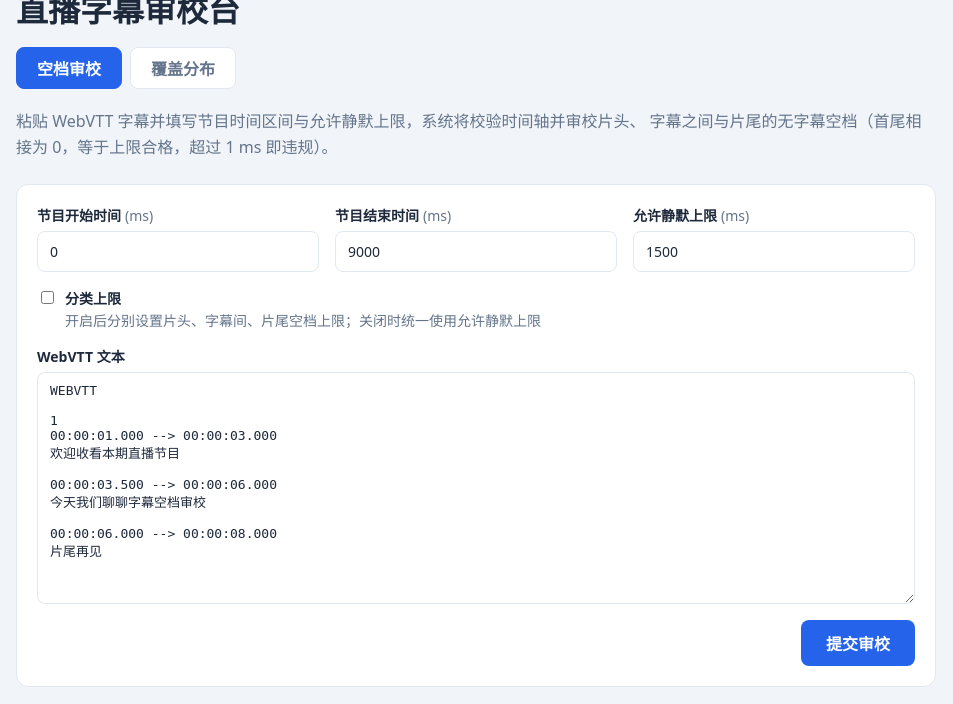
Test: App page states › posts gap_limits with head/between/tail when enabled and filled
Step 1. Click the checkbox with test id "gap-limits-toggle" → (48, 298), box [41,291,54,304]
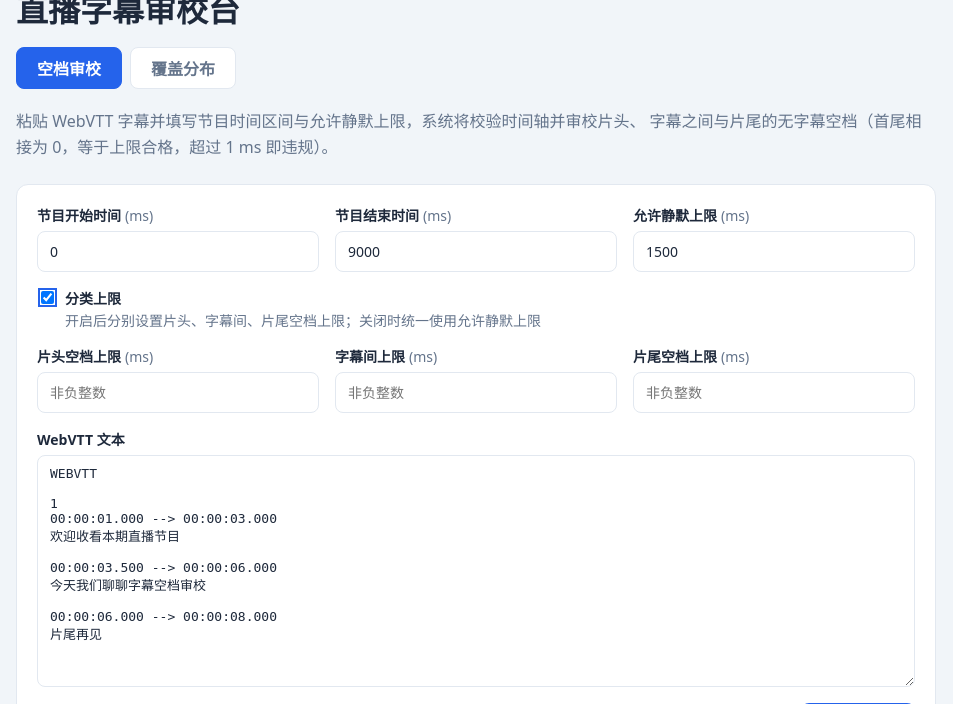
Step 2. Type "800" into the number field with test id "input-gap-head" → (178, 393), box [37,372,319,413]
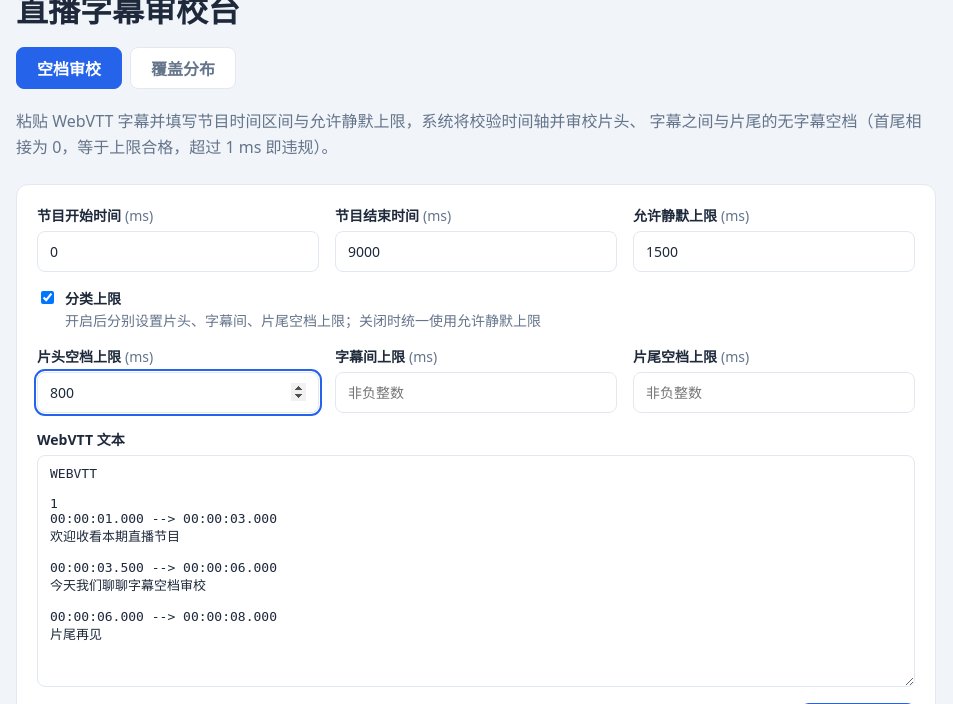
Step 3. Type "1200" into the number field with test id "input-gap-between" → (476, 393), box [335,372,617,413]
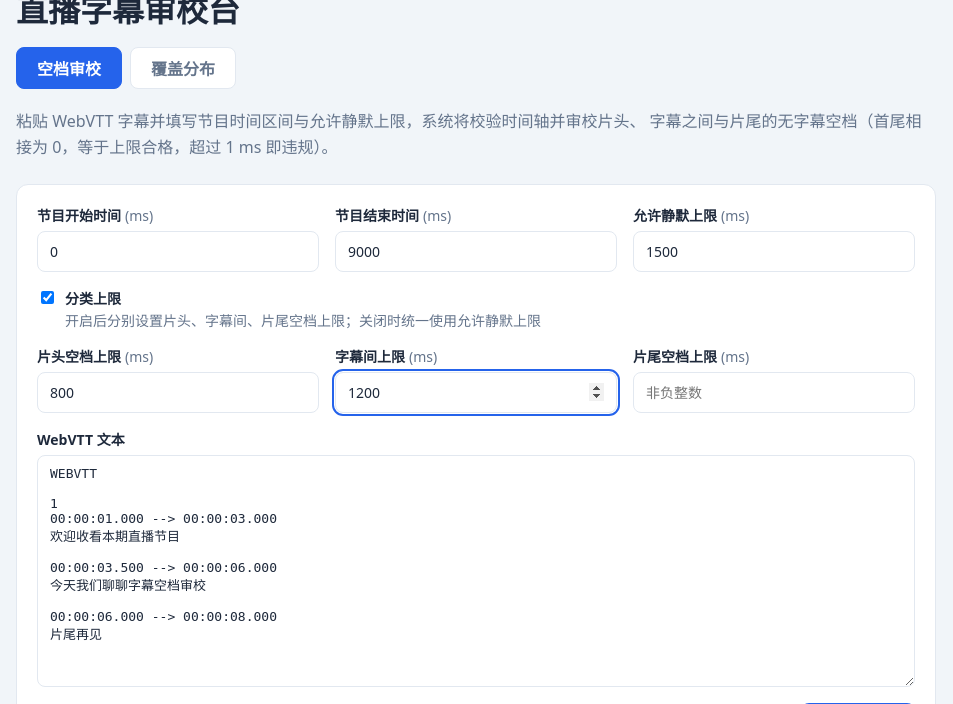
Step 4. Type "2000" into the number field with test id "input-gap-tail" → (774, 393), box [633,372,915,413]
(page scrolled)
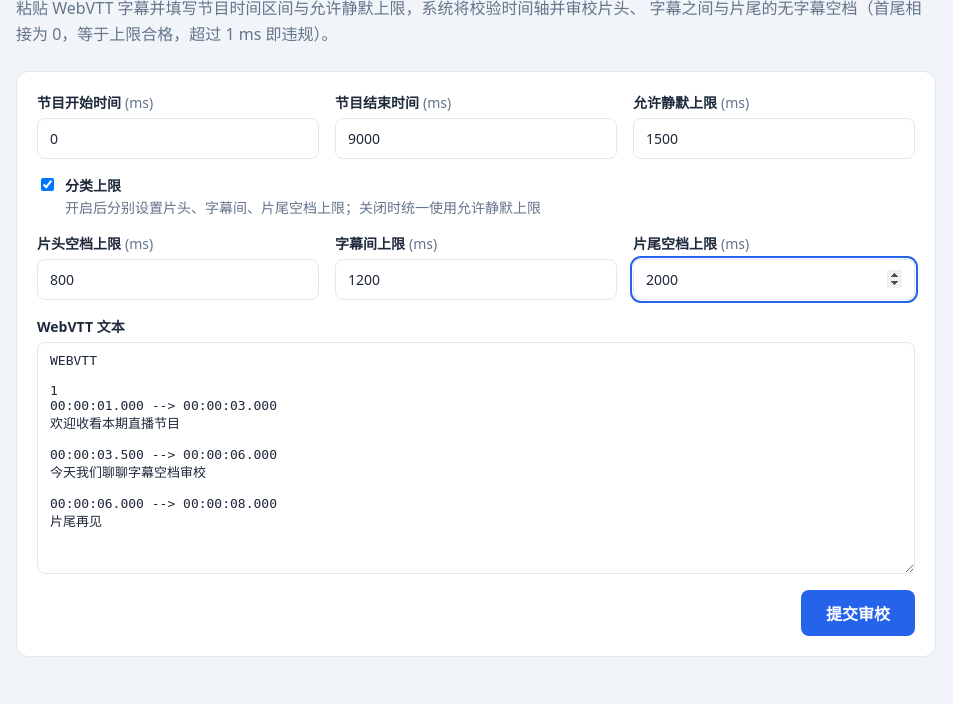
Step 5. Click the button with test id "submit" → (858, 613), box [801,590,915,636]
(page scrolled)
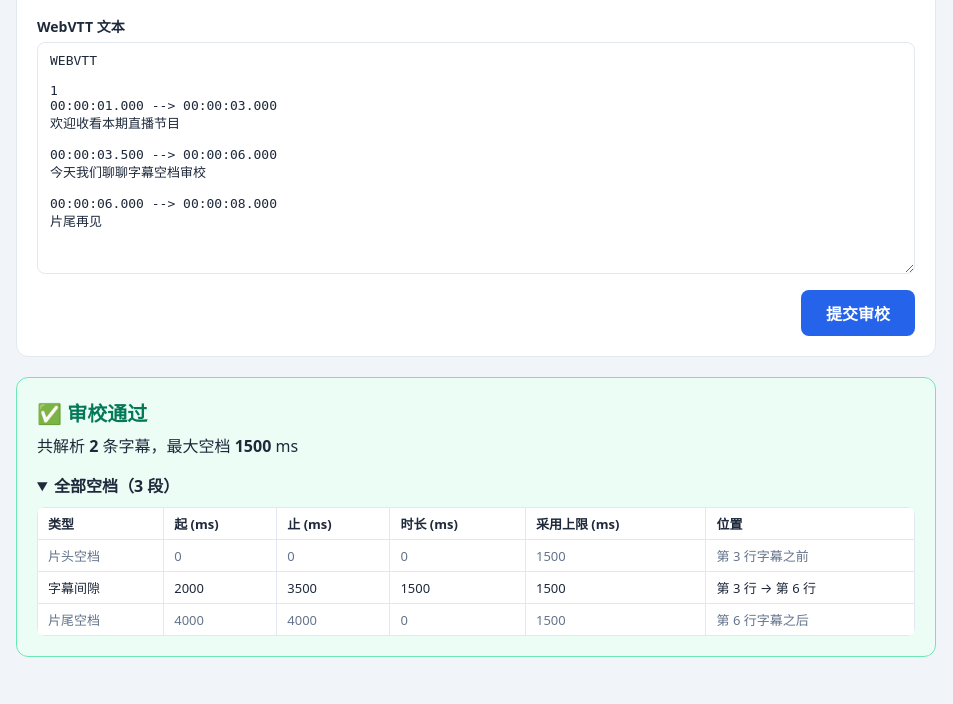
Now the heading "✅ 审校通过" is shown, box [37,400,147,427]
